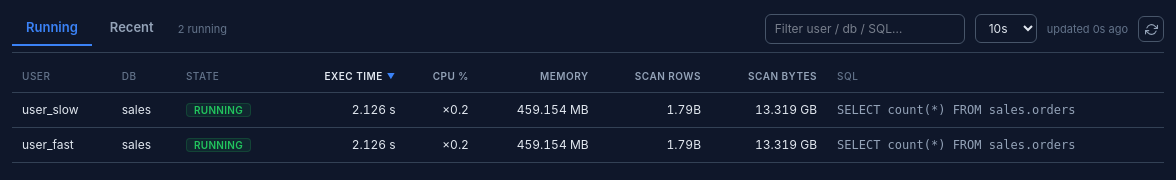
QueriesPanel › clicking the active sort header toggles direction
This screenshot has width=1176, height=180.
Expected: the table with test id "queries-table" is shown, [12, 60, 1164, 162]
Step 1. Click the text "Exec Time" → (360, 76), box [324, 68, 396, 84]
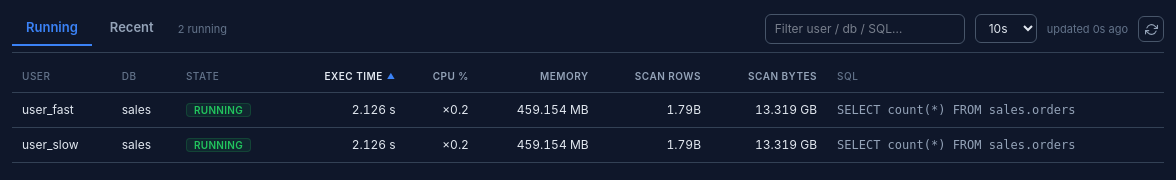
Expected: the row with test id "query-row" shows "user_fast", [22, 102, 74, 116]
